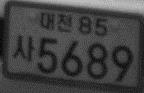5: (36, 36, 58, 74), (94, 16, 109, 37)
6: (60, 39, 83, 77)
8: (85, 42, 107, 80), (77, 15, 92, 35)
9: (110, 43, 133, 82)
대전_H: (39, 10, 72, 33)
사: (10, 33, 35, 62)
